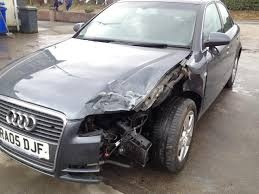Broken-glass: (77, 109, 139, 142)
Smashed: (73, 58, 197, 186)
